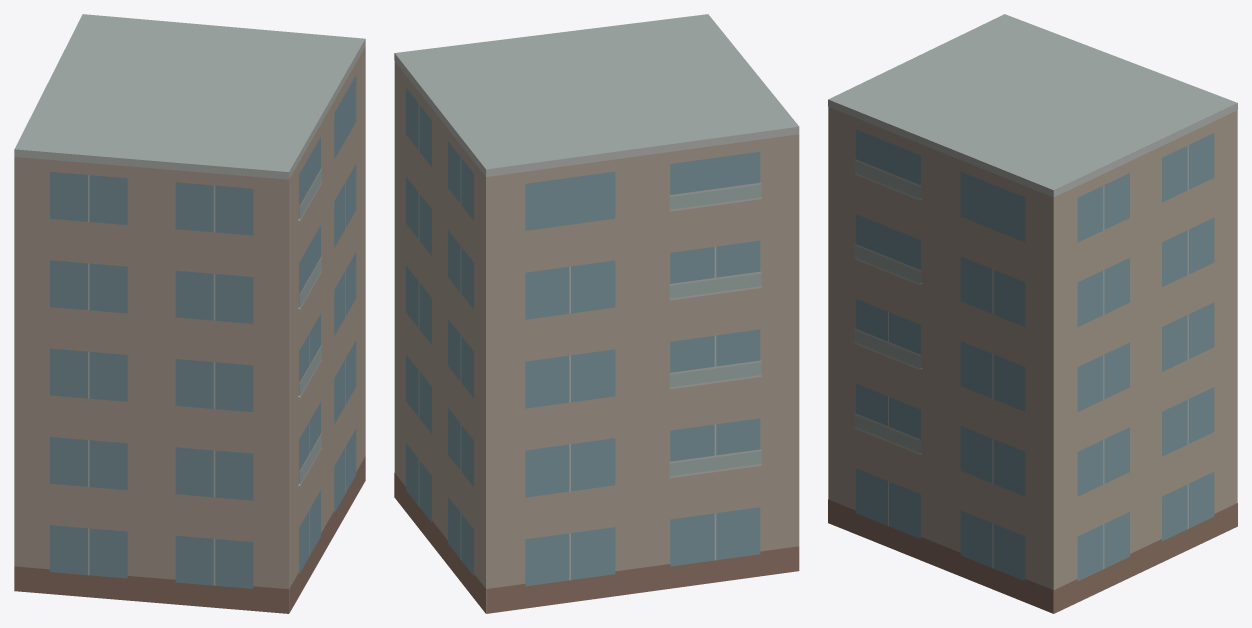
Rendered from survey-upis-32583684.glb.
3 renders of one model, left to right at view 1: azimuth 30°, elevation 25°; view 2: azimuth 150°, elevation 25°; view 3: azimuth 270°, elevation 25°, orthographic. The views are drawn at different scales.
Visible parts, largest first — view 1: survey-upis-32583684.tmp; view 2: survey-upis-32583684.tmp; view 3: survey-upis-32583684.tmp.
Part boxes in pixels (x1,y1,x2,y2): survey-upis-32583684.tmp: (14,14,365,613); survey-upis-32583684.tmp: (394,14,799,613); survey-upis-32583684.tmp: (828,14,1237,613).
Size of the model in its own units: 12.77 by 14.3 by 12.54.
